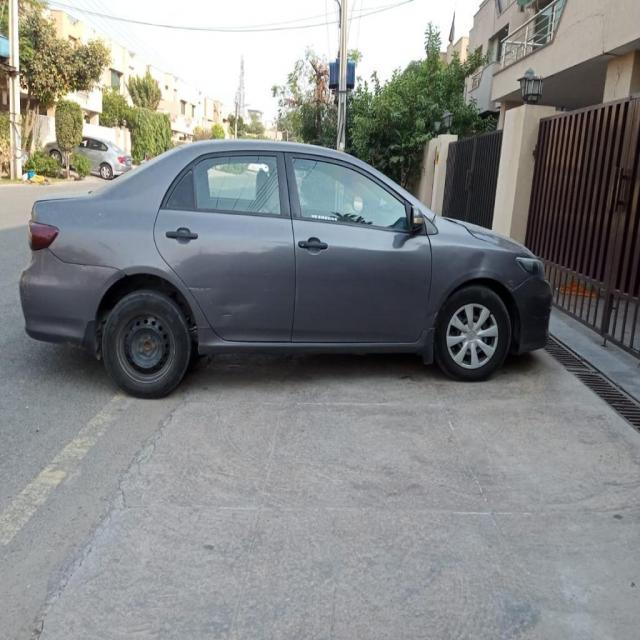scratch: (183, 282, 216, 296), (211, 308, 243, 322)
